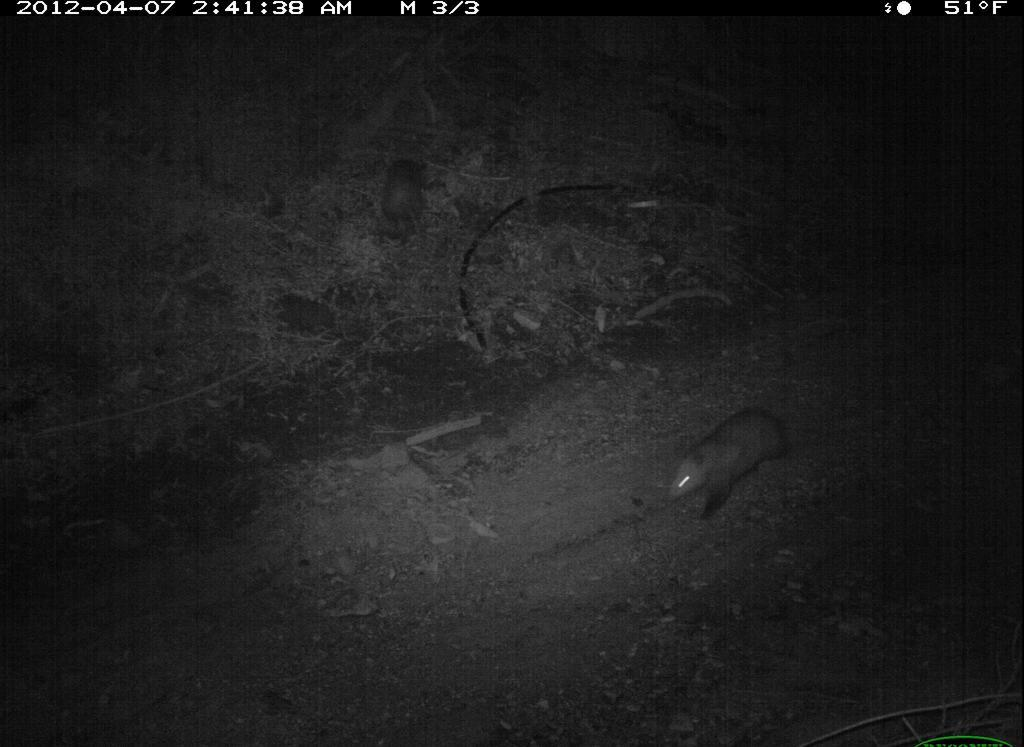opossum: (658, 392, 826, 527), (374, 151, 436, 244)
